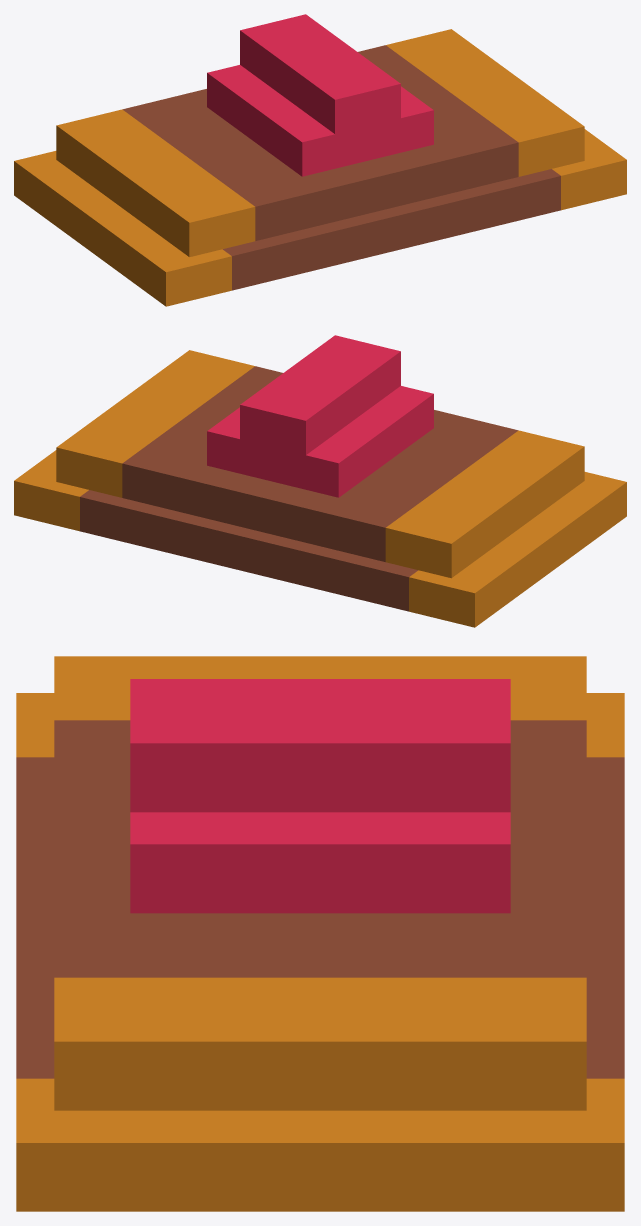
Rendered from slogaSlimebottom.glb.
3 views of the same model, one above another, from view 1: azimuth 30°, elevation 25°; view 2: azimuth 150°, elevation 25°; view 3: azimuth 270°, elevation 25° (orthographic). The views are drawn at different scales.
Parts seen in each view (by area): view 1: generated(Clone); view 2: generated(Clone); view 3: generated(Clone).
Boxes of the visible parts, box(x1,y1,x2,y2) form: generated(Clone): box(14, 14, 626, 306); generated(Clone): box(14, 335, 626, 627); generated(Clone): box(16, 656, 624, 1211).
Bounding box in the file's own units: 14 × 4 × 8.
